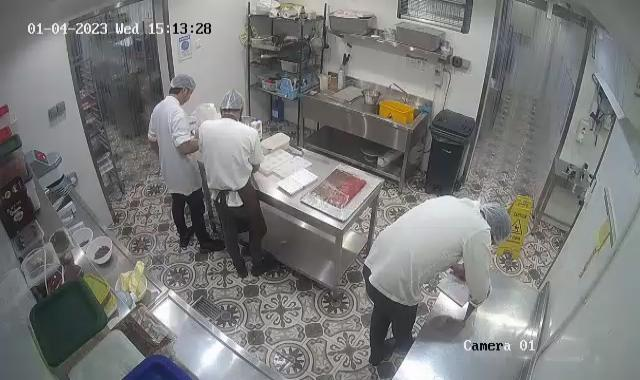hairnet: (483, 196, 510, 245), (219, 87, 249, 113), (167, 74, 196, 96)
